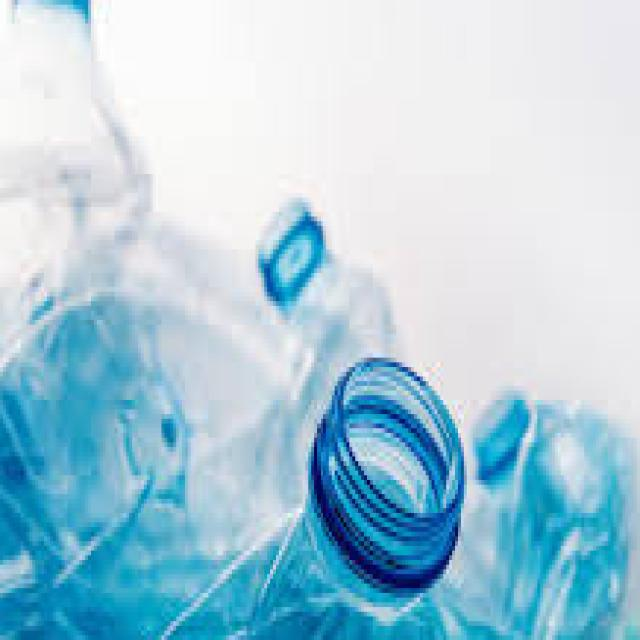organic: (2, 7, 628, 637)
